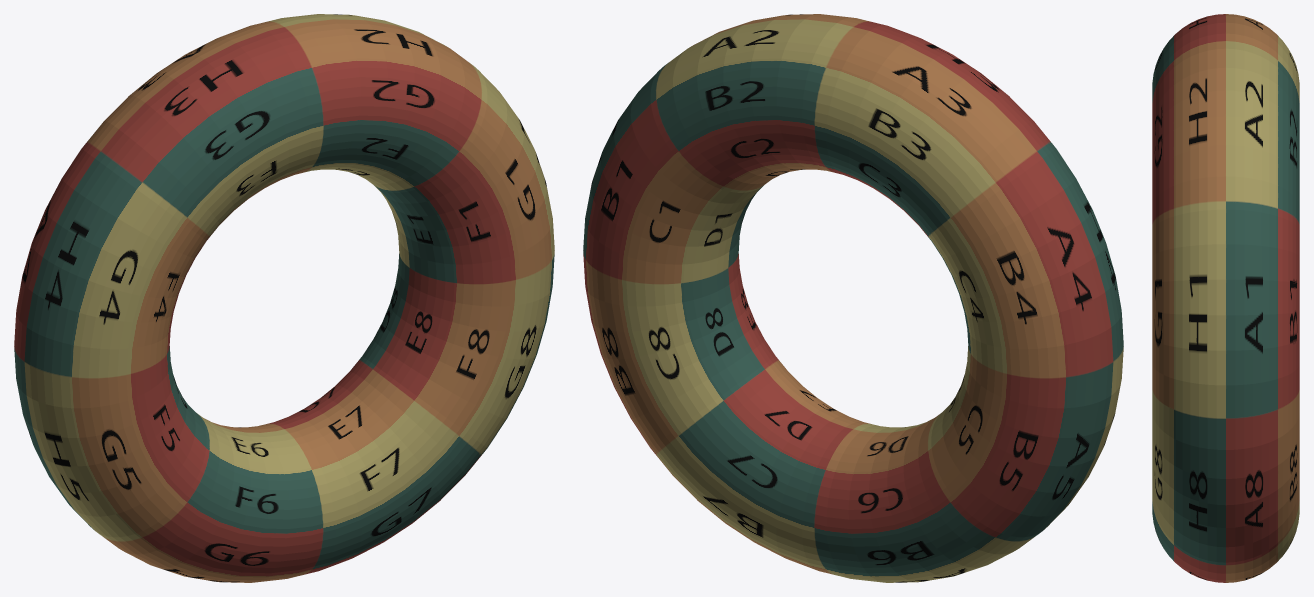
File: texture_torus_R21_r24.glb
3 views of the same model, side by side, from view 1: azimuth 30°, elevation 25°; view 2: azimuth 150°, elevation 25°; view 3: azimuth 270°, elevation 25° (orthographic). The views are drawn at different scales.
Visible parts, largest first — view 1: world; view 2: world; view 3: world.
Part boxes in pixels (left/top/right/bottom): world: left=14, top=14, right=554, bottom=582; world: left=583, top=14, right=1123, bottom=582; world: left=1152, top=14, right=1299, bottom=582.
Size of the model in its own units: 32.4 by 32.34 by 8.38.
Materials: 1 (1 with a texture image).
